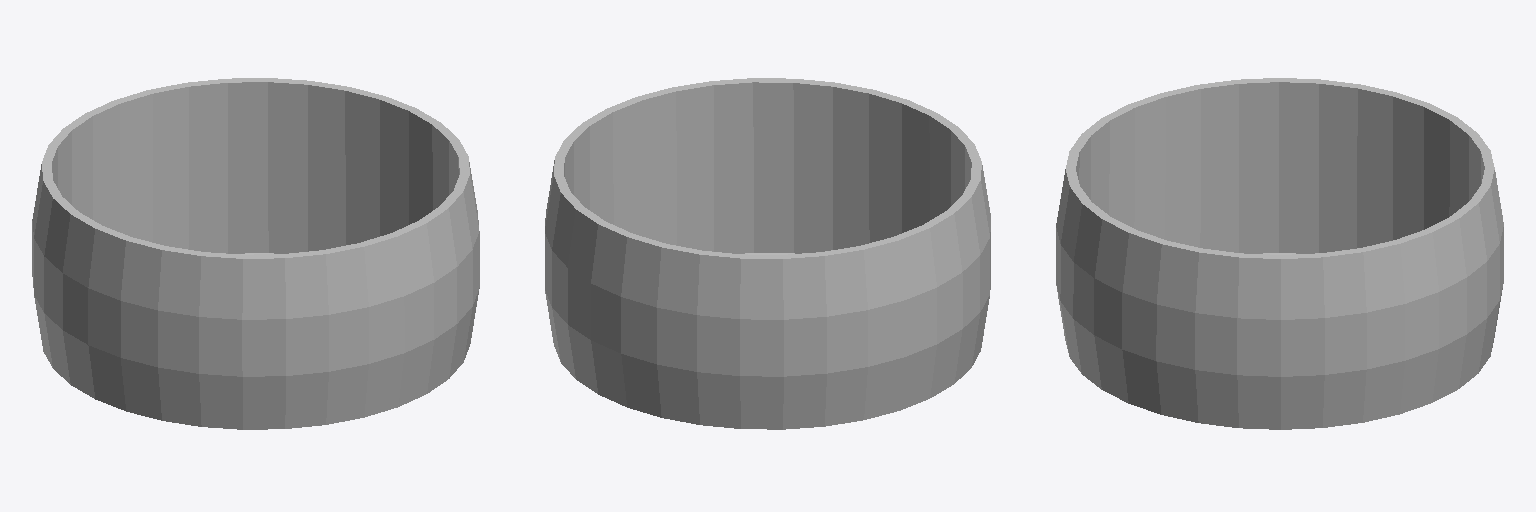
File: SpaceStation4.obj
3 renders of one model, left to right at view 1: azimuth 30°, elevation 25°; view 2: azimuth 150°, elevation 25°; view 3: azimuth 270°, elevation 25°, orthographic.
Parts seen in each view (by area): view 1: SpaceStation2:pTorus1; view 2: SpaceStation2:pTorus1; view 3: SpaceStation2:pTorus1.
Boxes of the visible parts, box(x1,y1,x2,y2) form: SpaceStation2:pTorus1: box(32, 78, 479, 429); SpaceStation2:pTorus1: box(545, 78, 990, 429); SpaceStation2:pTorus1: box(1056, 78, 1503, 429).
Size of the model in its own units: 32.13 by 13.85 by 32.14.